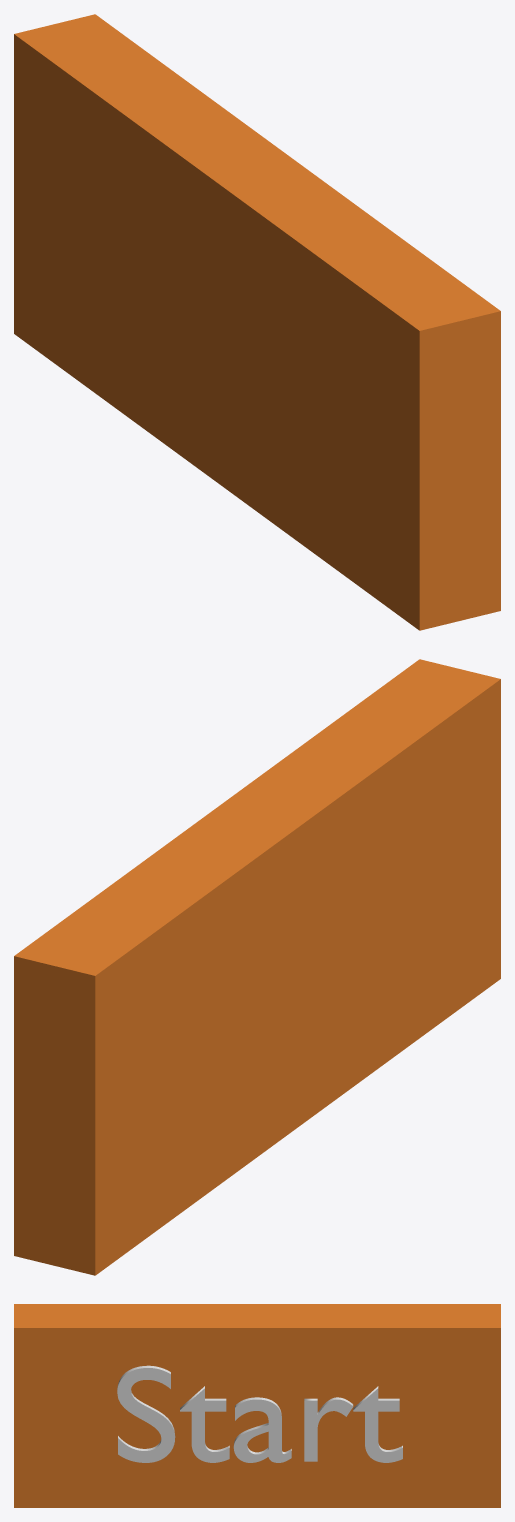
The model's file is start.fbx.
The picture shows the model from 3 angles, top to bottom: view 1: azimuth 30°, elevation 25°; view 2: azimuth 150°, elevation 25°; view 3: azimuth 270°, elevation 25°; orthographic projection. The views are drawn at different scales.
Visible parts, largest first — view 1: Cube; view 2: Cube; view 3: Cube, Text.
Part boxes in pixels (bbox=[...]): Cube: bbox=[14, 14, 500, 630]; Cube: bbox=[14, 659, 500, 1275]; Cube: bbox=[14, 1304, 500, 1507]; Text: bbox=[117, 1365, 402, 1462].
Size of the model in its own units: 61.85 by 200 by 490.
